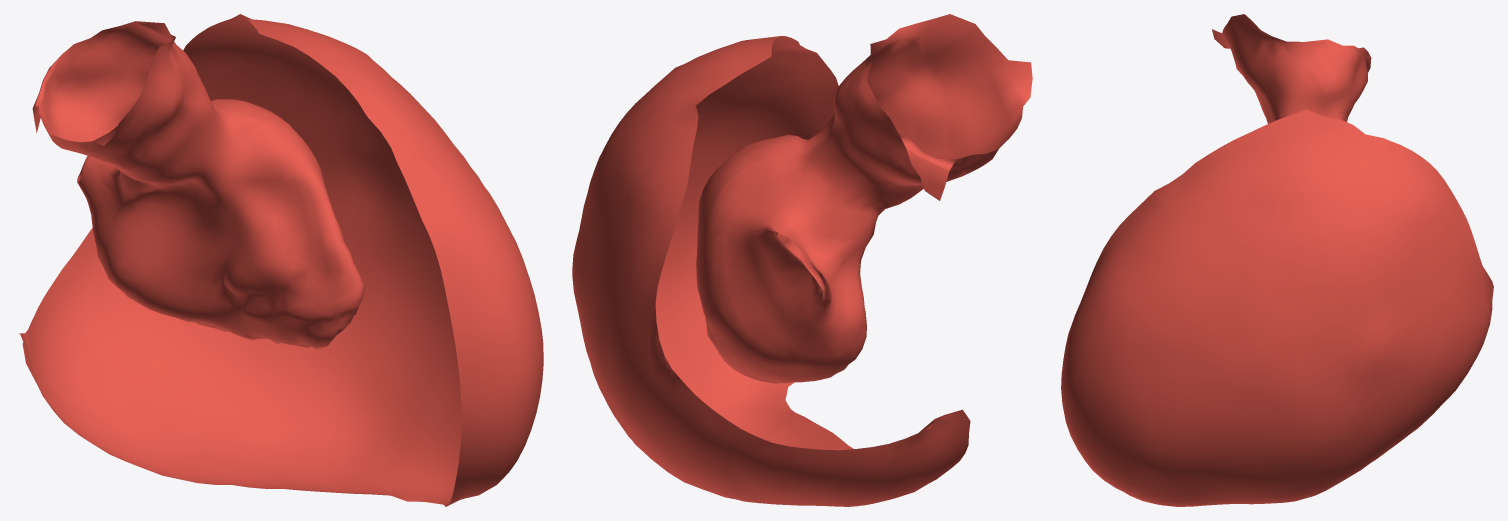
Rendered from leftventricle.gltf.
3 views of the same model, side by side, from view 1: azimuth 30°, elevation 25°; view 2: azimuth 150°, elevation 25°; view 3: azimuth 270°, elevation 25° (orthographic). The views are drawn at different scales.
Visible parts, largest first — view 1: Leftventricle.007; view 2: Leftventricle.007; view 3: Leftventricle.007.
Part boxes in pixels (x1,y1,x2,y2): Leftventricle.007: [18, 14, 543, 506]; Leftventricle.007: [572, 14, 1032, 506]; Leftventricle.007: [1061, 14, 1493, 506].
Bounding box in the file's own units: 2.45 × 2.76 × 2.69.
